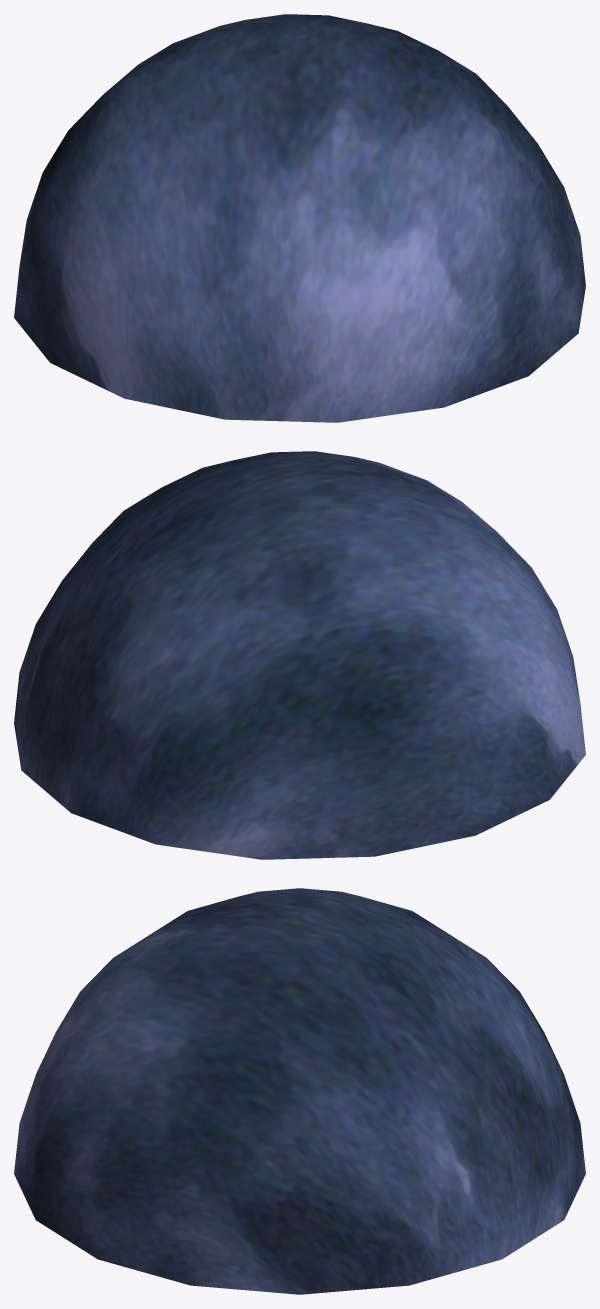
The model's file is VR_Environment_01.fbx.
3 renders of one model, top to bottom at view 1: azimuth 30°, elevation 25°; view 2: azimuth 150°, elevation 25°; view 3: azimuth 270°, elevation 25°, orthographic.
Parts seen in each view (by area): view 1: pSphere1; view 2: pSphere1; view 3: pSphere1.
Part boxes in pixels (x1,y1,x2,y2): pSphere1: (14, 14, 585, 422); pSphere1: (14, 451, 585, 859); pSphere1: (14, 888, 585, 1294).
Bounding box in the file's own units: 8000 × 4000 × 8000.
